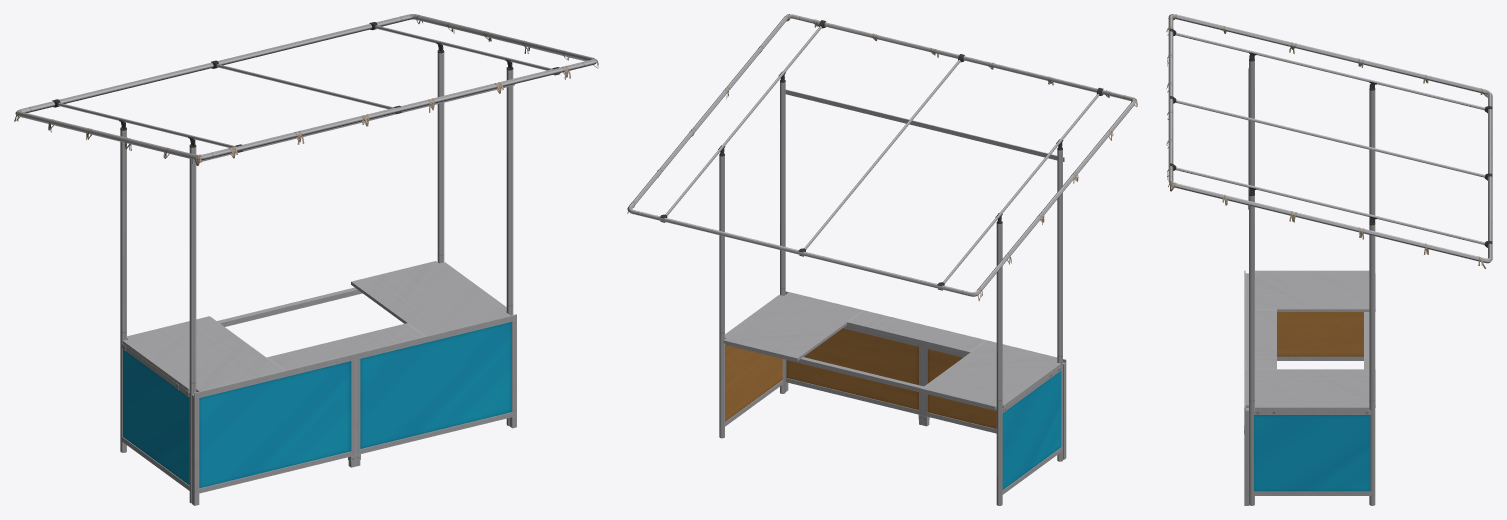
The model's file is jsf_4P_s02_c02_t02.fbx.
3 views of the same model, side by side, from view 1: azimuth 30°, elevation 25°; view 2: azimuth 150°, elevation 25°; view 3: azimuth 270°, elevation 25° (orthographic). The views are drawn at different scales.
Parts seen in each view (by area): view 1: Base_s02_c02, Pillar4_s02, Table_4P_s02_t02, Rope_4P_s02; view 2: Base_s02_c02, Pillar4_s02, Table_4P_s02_t02, Rope_4P_s02; view 3: Base_s02_c02, Pillar4_s02, Table_4P_s02_t02, Rope_4P_s02.
Part boxes in pixels (bbox=[...]): Base_s02_c02: bbox=[121, 314, 516, 505]; Pillar4_s02: bbox=[15, 14, 596, 503]; Table_4P_s02_t02: bbox=[122, 261, 509, 396]; Rope_4P_s02: bbox=[14, 15, 598, 165]; Base_s02_c02: bbox=[725, 291, 1066, 494]; Pillar4_s02: bbox=[627, 14, 1136, 505]; Table_4P_s02_t02: bbox=[723, 292, 1061, 412]; Rope_4P_s02: bbox=[627, 14, 1137, 300]; Base_s02_c02: bbox=[1244, 270, 1371, 505]; Pillar4_s02: bbox=[1168, 14, 1492, 505]; Table_4P_s02_t02: bbox=[1245, 270, 1375, 414]; Rope_4P_s02: bbox=[1166, 14, 1487, 268].
Size of the model in its own units: 264 by 243 by 211.
